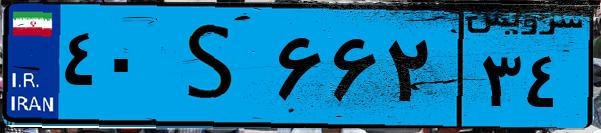0: (110, 28, 158, 98)
2: (385, 28, 445, 110)
3: (475, 38, 525, 113)
4: (57, 26, 110, 100), (525, 38, 570, 115)
6: (270, 28, 330, 110), (330, 28, 385, 110)
S: (158, 12, 270, 120)
